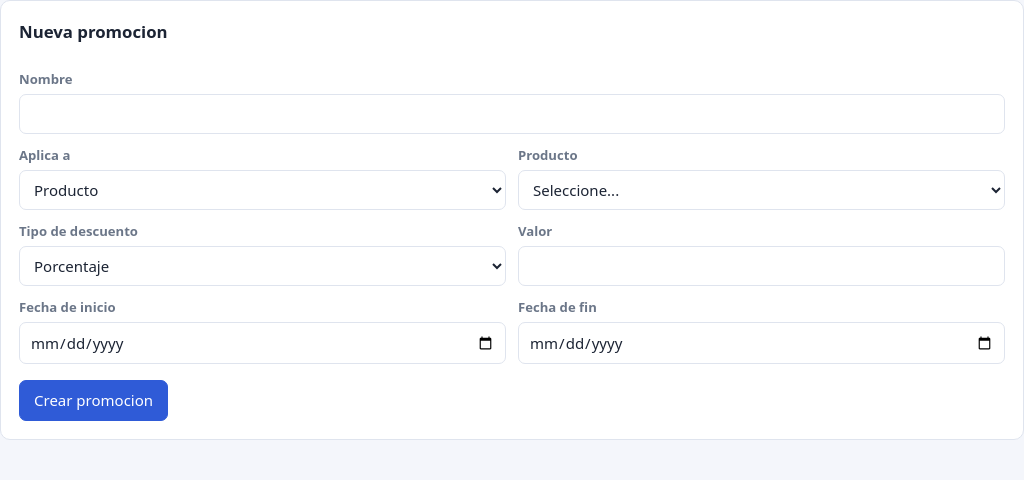
it: PromotionForm › rechaza una fecha de fin anterior a la de inicio
Type "Promo" into the field labelled "Nombre".
click(512, 114); type("Promo")  # box [19,94,1005,134]
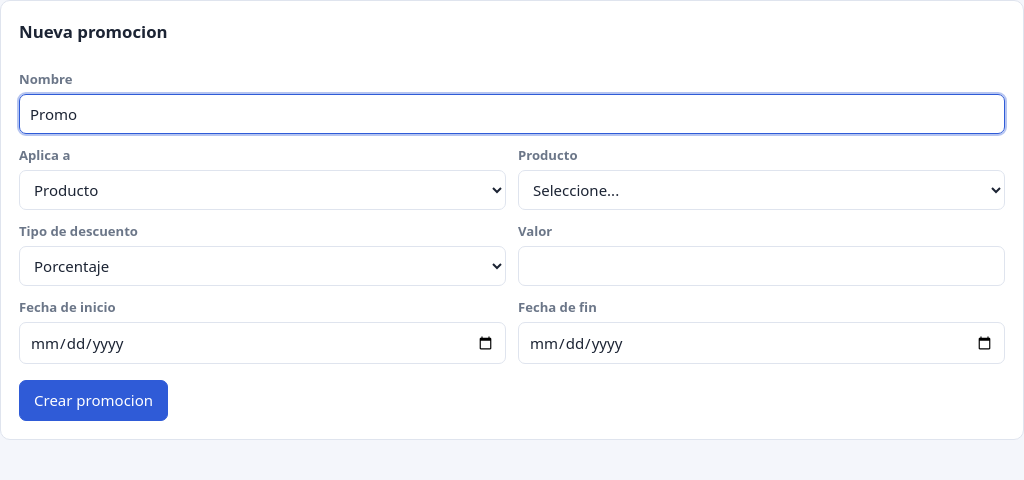
Select "Cafe molido 500g" in the dropdown labelled "Producto" at (762,190), box [518,170,1005,210]
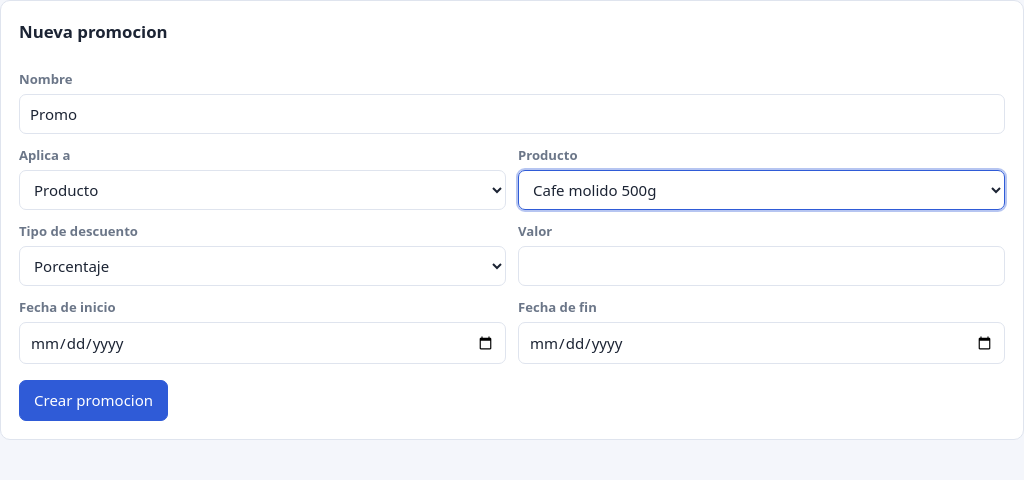
Type "10" into the number field labelled "Valor".
click(762, 266); type("10")  # box [518,246,1005,286]
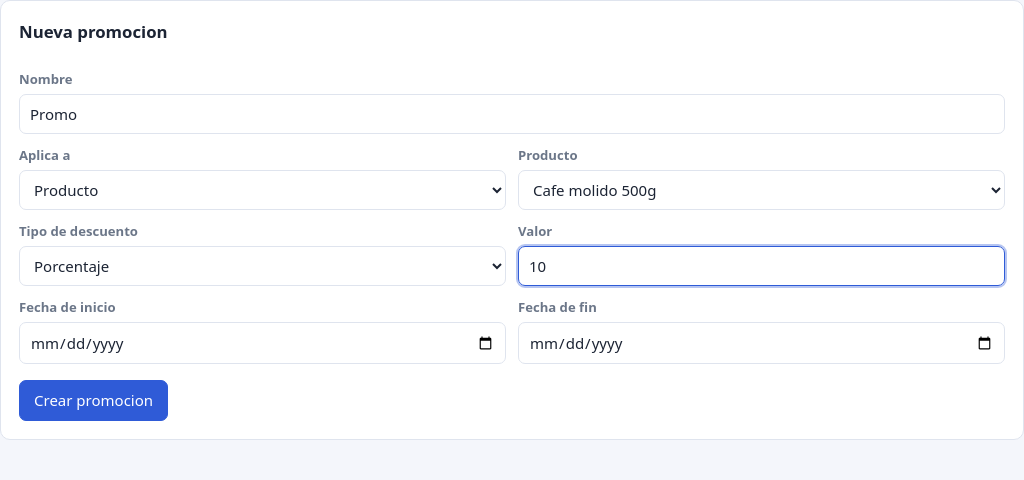
Type "2026-04-30" into the date field labelled "Fecha de inicio".
click(262, 343); type("2026-04-30")  # box [19,322,506,364]
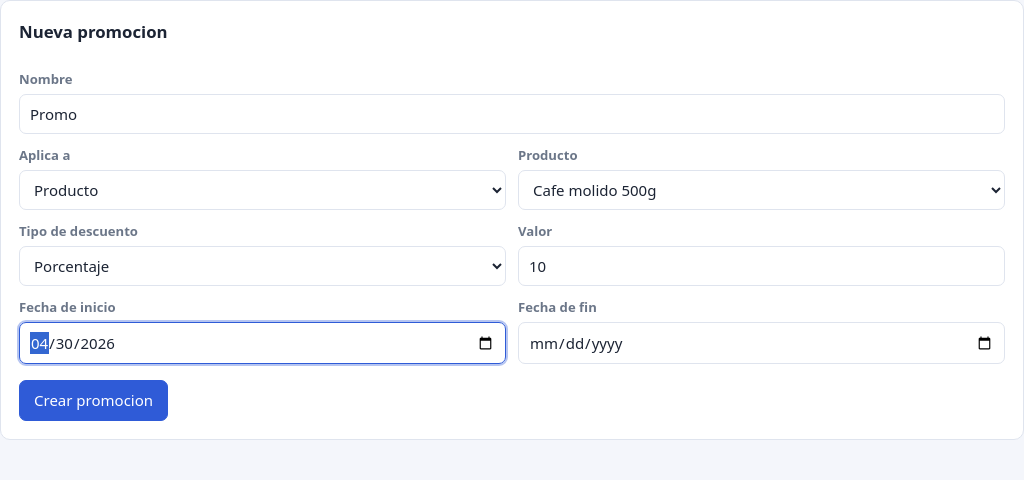
Type "2026-04-01" into the date field labelled "Fecha de fin".
click(762, 343); type("2026-04-01")  # box [518,322,1005,364]
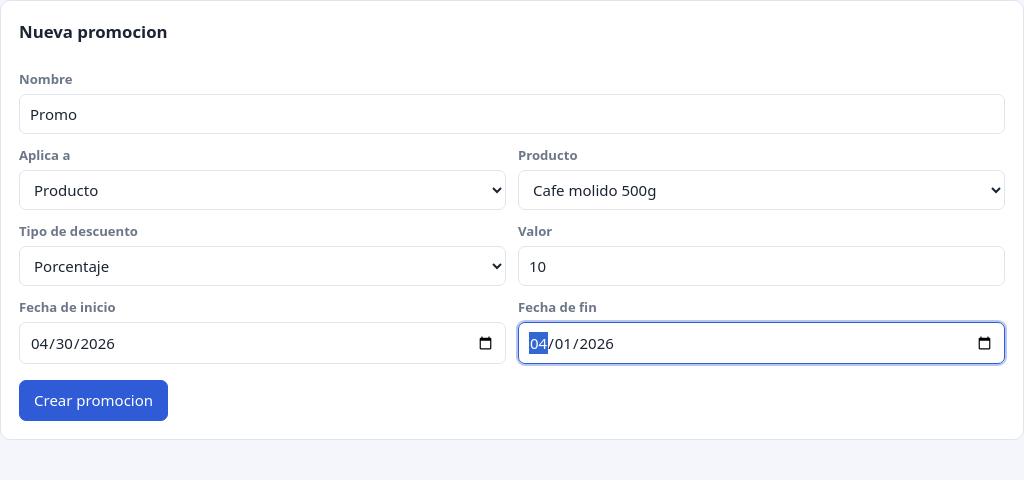
Click the button "Crear promocion".
click(94, 401)  # box [19,380,168,421]
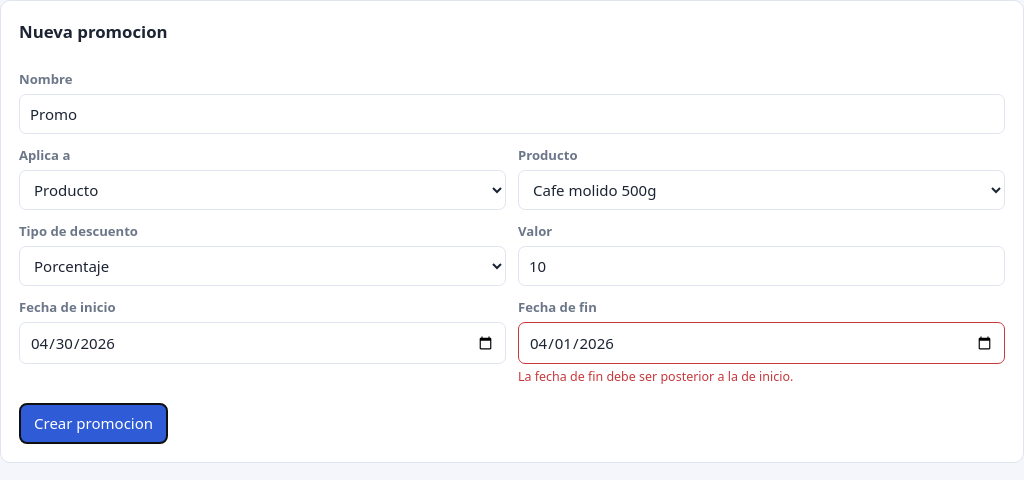
expect the text "La fecha de fin debe ser posterior a la de inicio." is shown: met, box [518,368,793,385]
